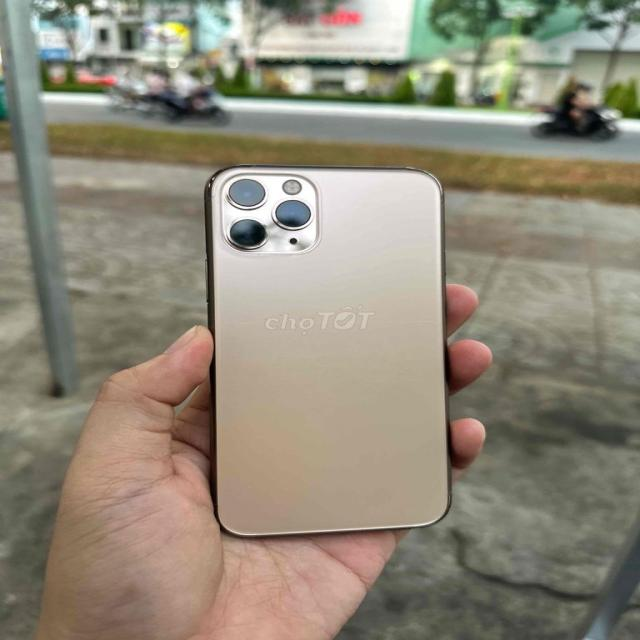gen_11: (203, 150, 473, 540)
